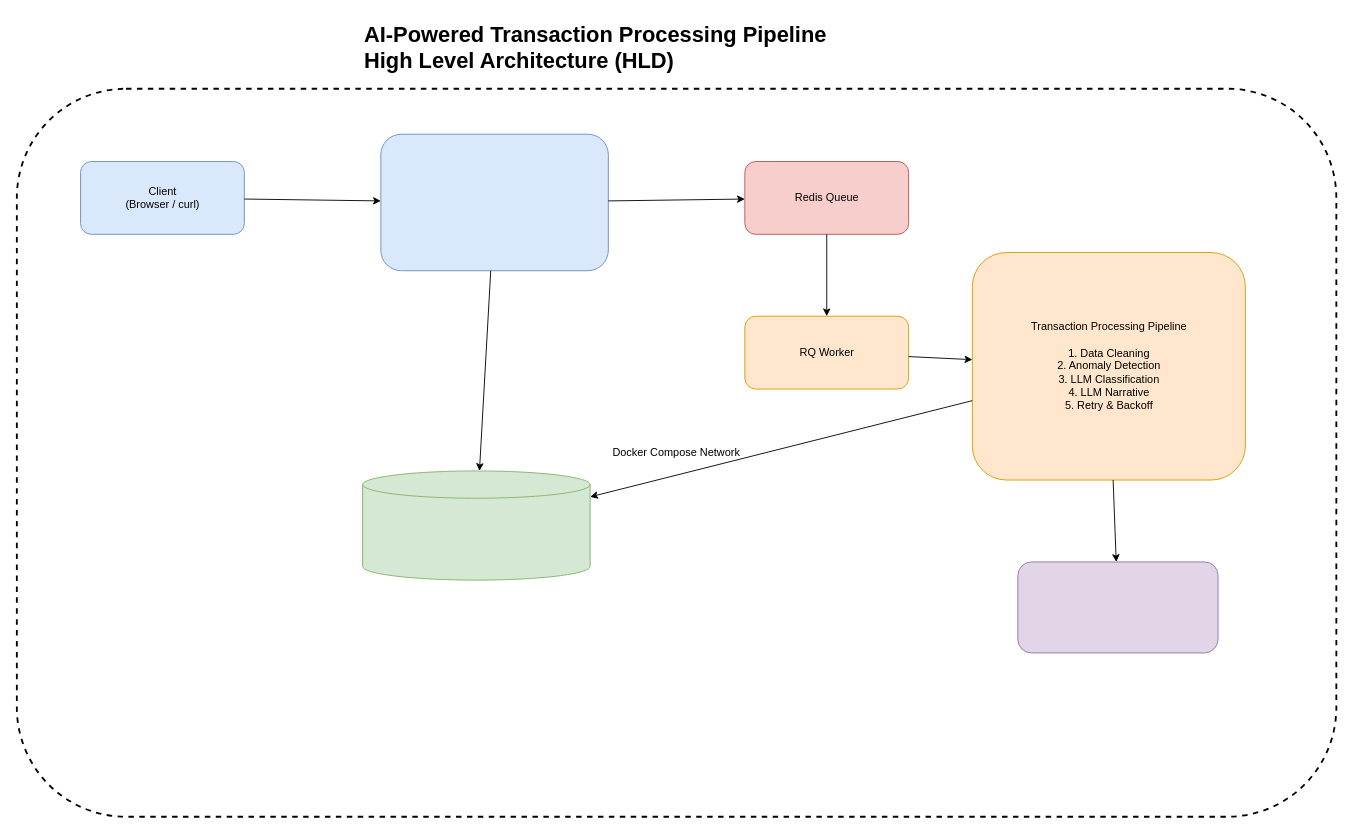
Image size: 1352x833. Some labels were removed from this diagram. The shapes that lost their labels are listed below. From the top down, each one's box as (x1, y1, x2, y2) in pixels, then its label:
(380, 133, 608, 271): FastAPI API POST /jobs/upload GET /status GET /results GET /jobs
(362, 470, 590, 580): PostgreSQL Jobs Transactions JobSummary
(1017, 561, 1218, 653): Gemini 1.5 Flash (or Mock Provider)
